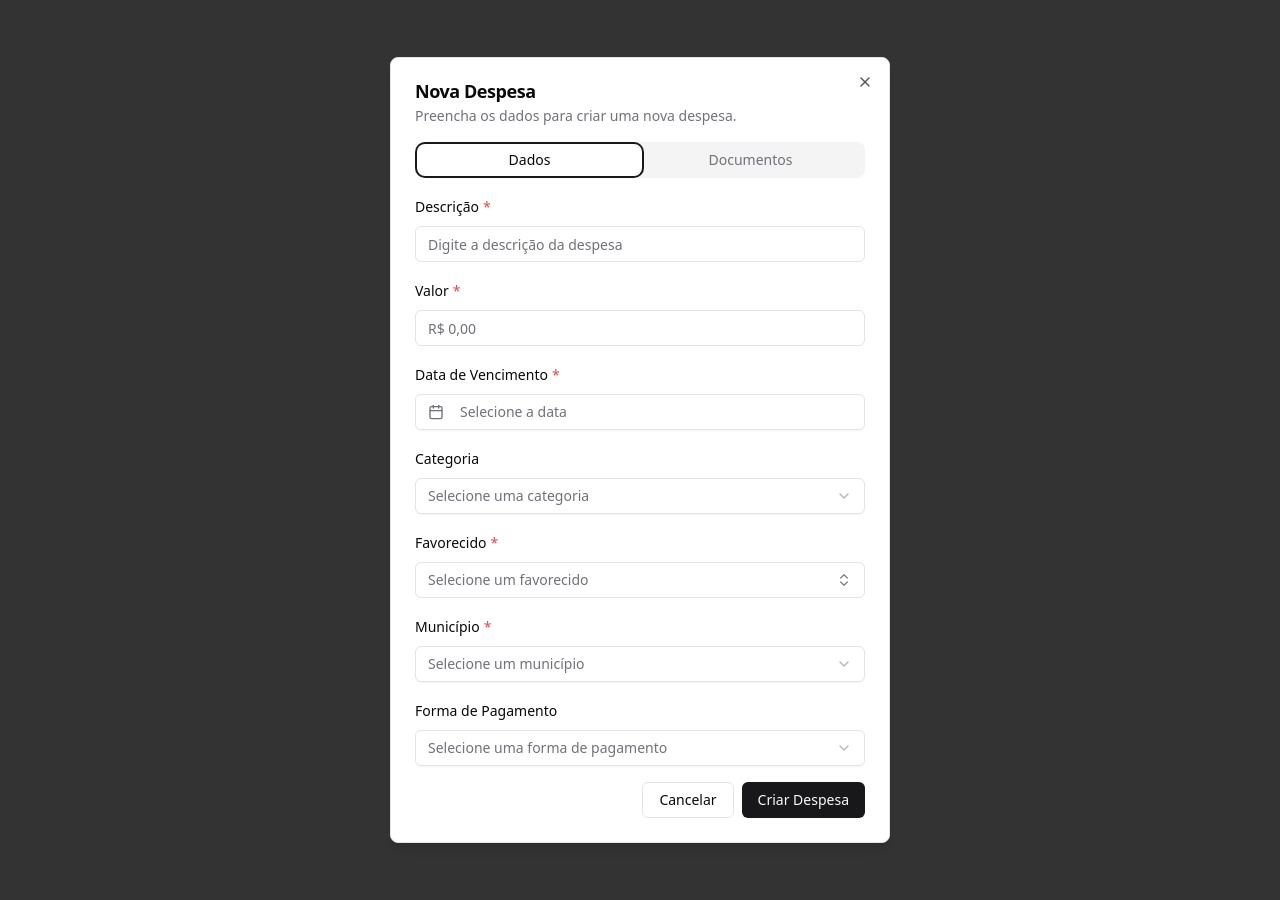
it: Expense File Upload Integration › Tab navigation › should switch between Data and Documents tabs
This screenshot has width=1280, height=900.
Expected: the heading "Nova Despesa" is shown, [415, 79, 536, 103]
What coordinates should you click on to do the following:
click the tab "Documentos"
I would click on:
 (750, 160)
Its box is [640, 146, 861, 174].
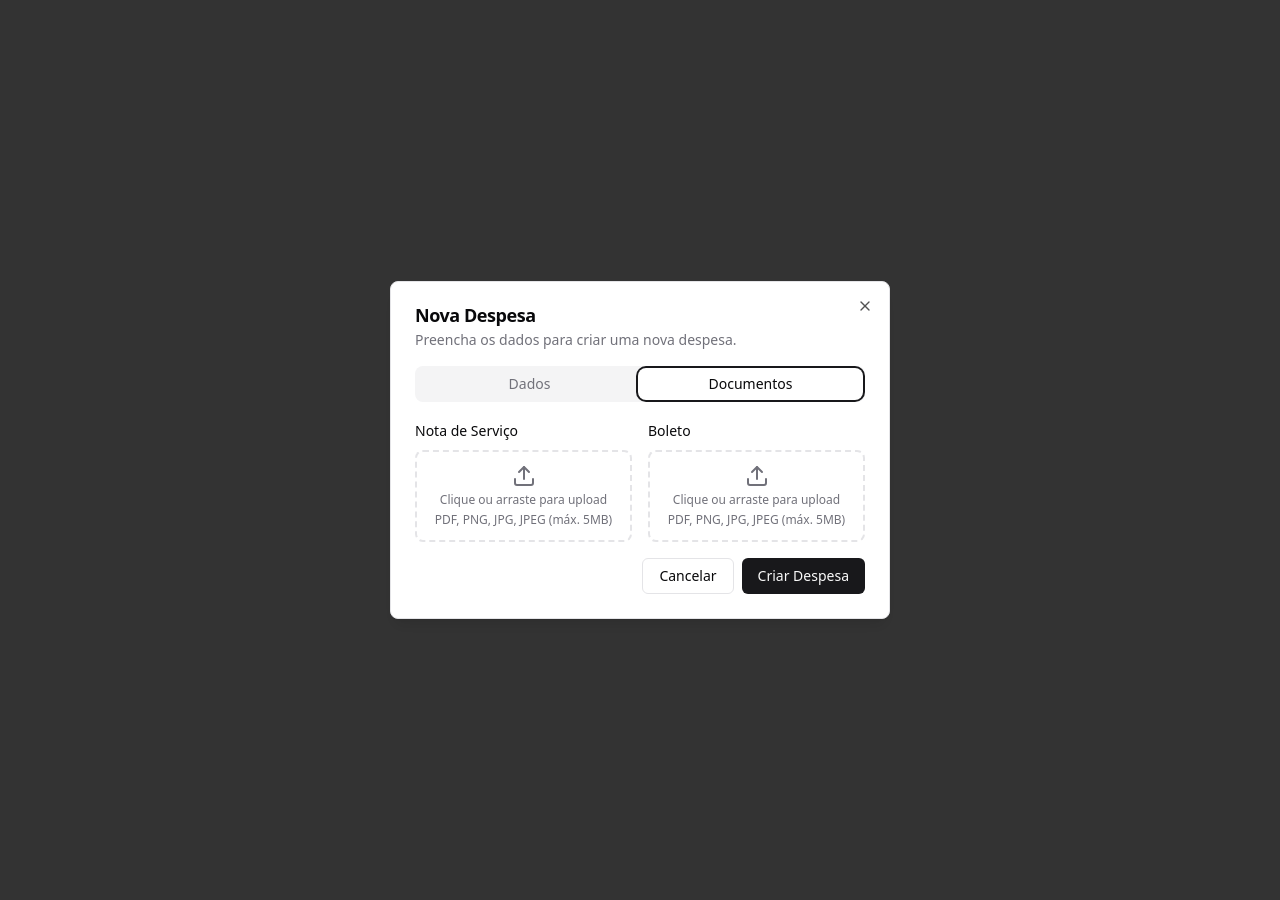
Expected: the text "Nota de Serviço" is shown, [415, 421, 518, 440]
What coordinates should you click on to do the following:
click the tab "Dados"
I would click on:
 (530, 384)
Its box is [419, 370, 640, 398].
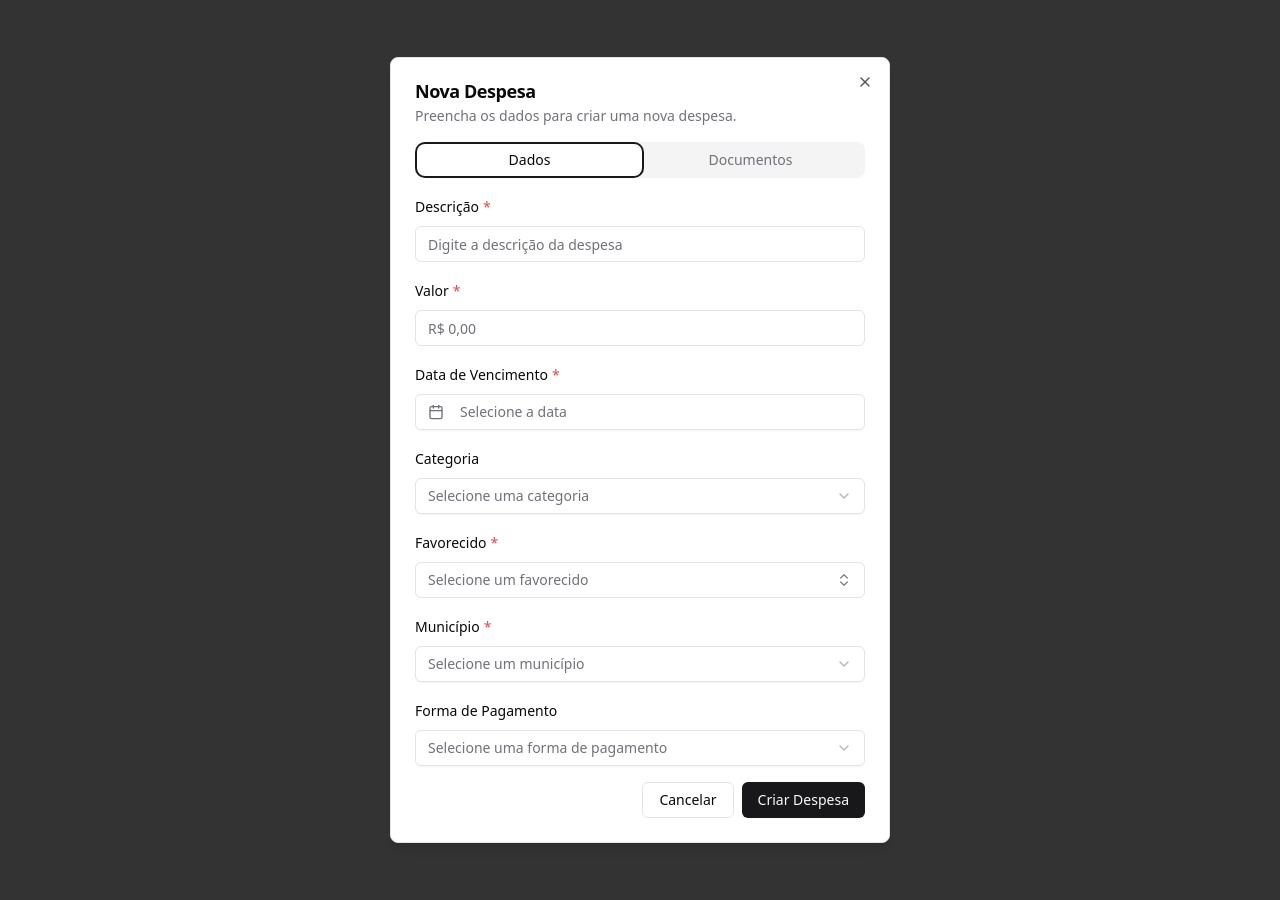
Expected: the field labelled "Descrição*" is shown, [415, 226, 865, 262]
